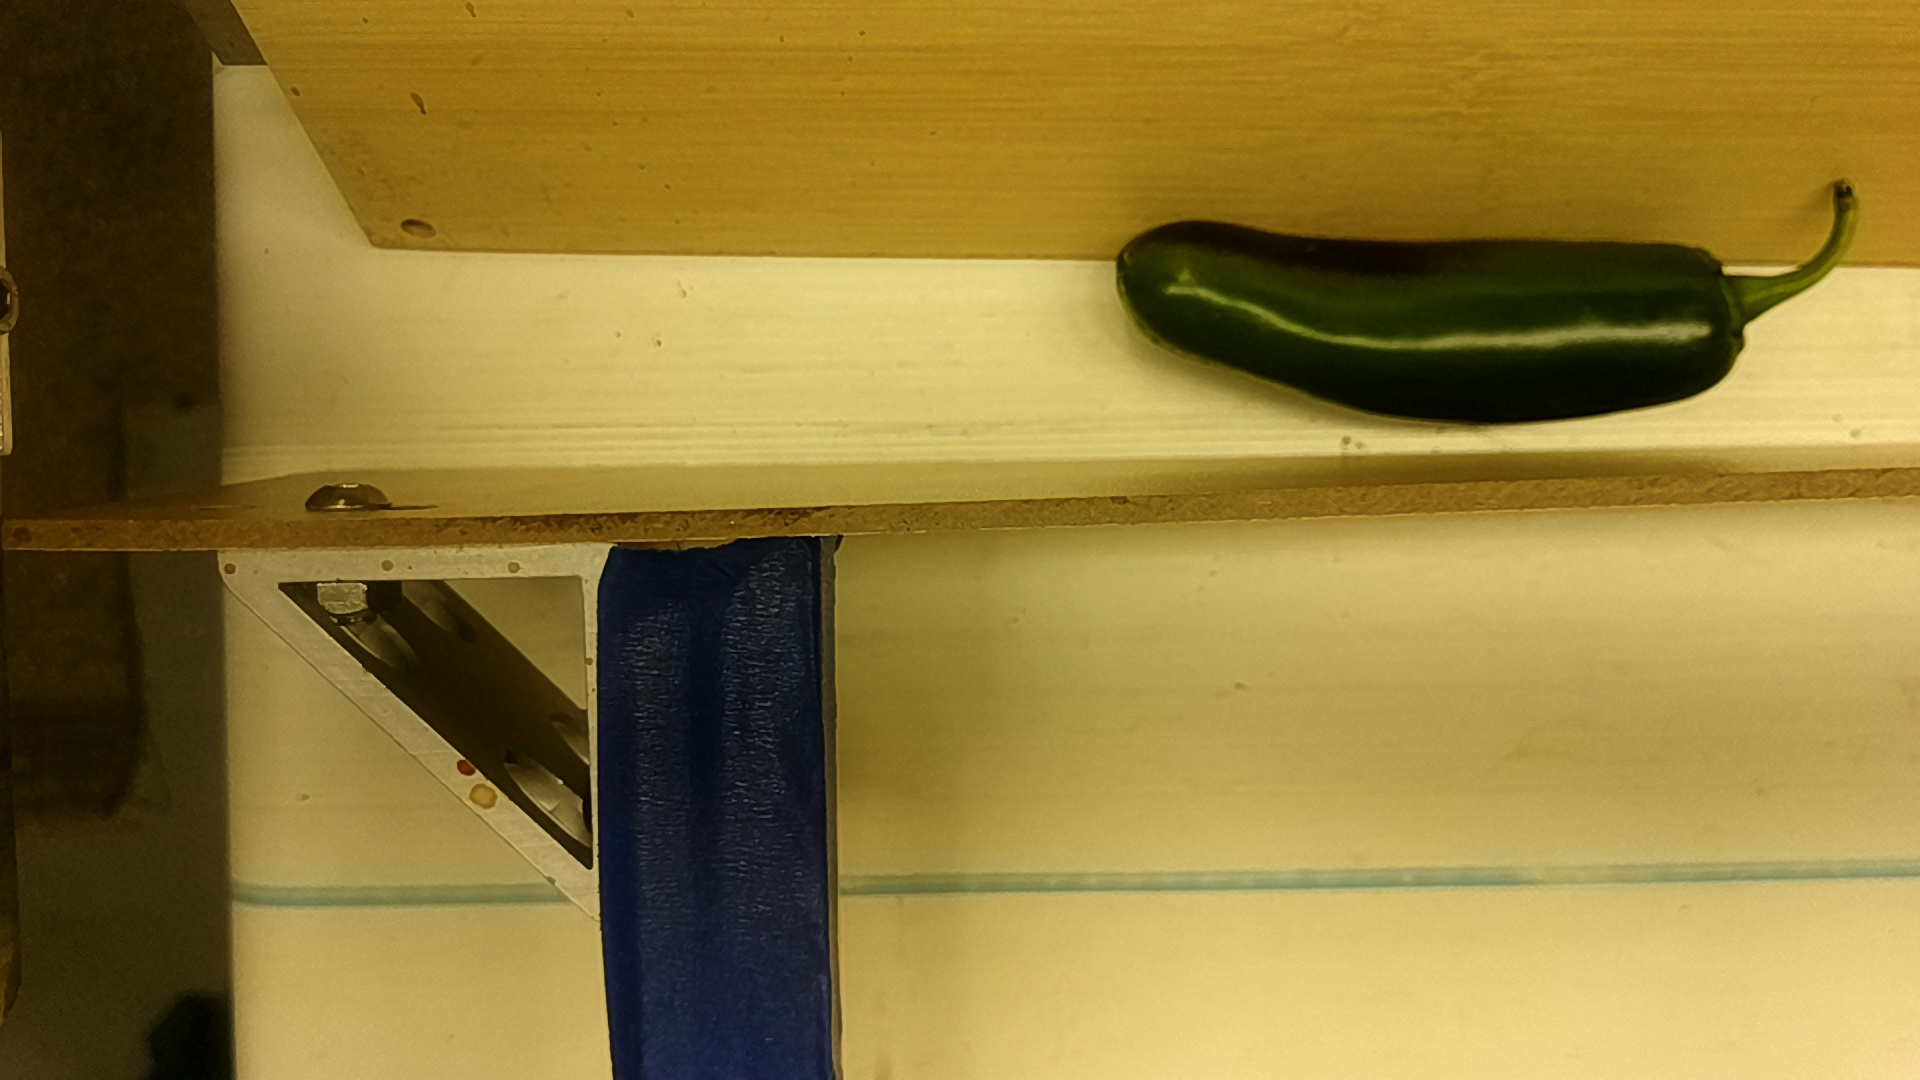Cut Point: (1685, 231, 1764, 394)
